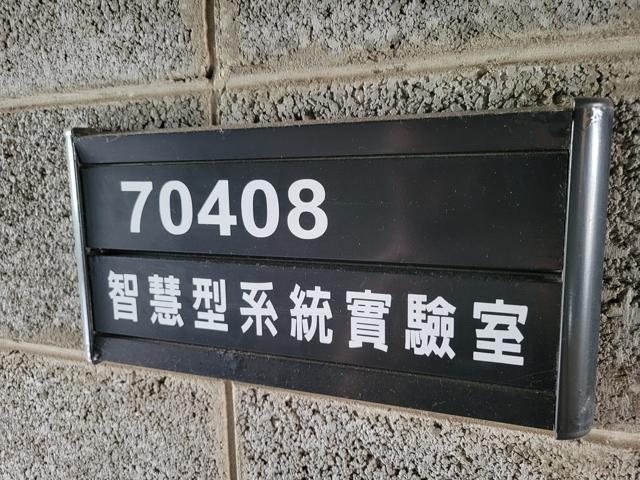doorplate: (57, 88, 622, 448)
